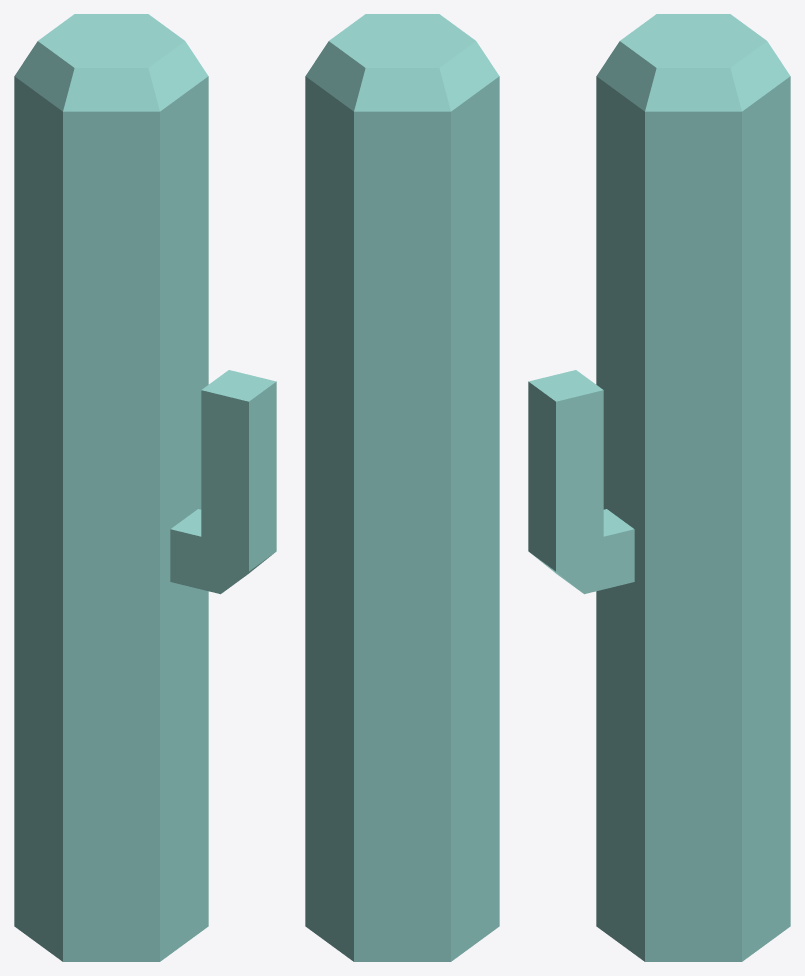
Rendered from cactus_large.glb.
The picture shows the model from 3 angles, left to right: view 1: azimuth 30°, elevation 25°; view 2: azimuth 150°, elevation 25°; view 3: azimuth 270°, elevation 25°; orthographic projection.
Visible parts, largest first — view 1: cactus_large; view 2: cactus_large; view 3: cactus_large.
Part boxes in pixels (x1=…): cactus_large: x1=14, y1=14, x2=276, y2=961; cactus_large: x1=305, y1=14, x2=499, y2=961; cactus_large: x1=528, y1=14, x2=790, y2=961.
Size of the model in its own units: 0.116 by 0.5804 by 0.1557.
